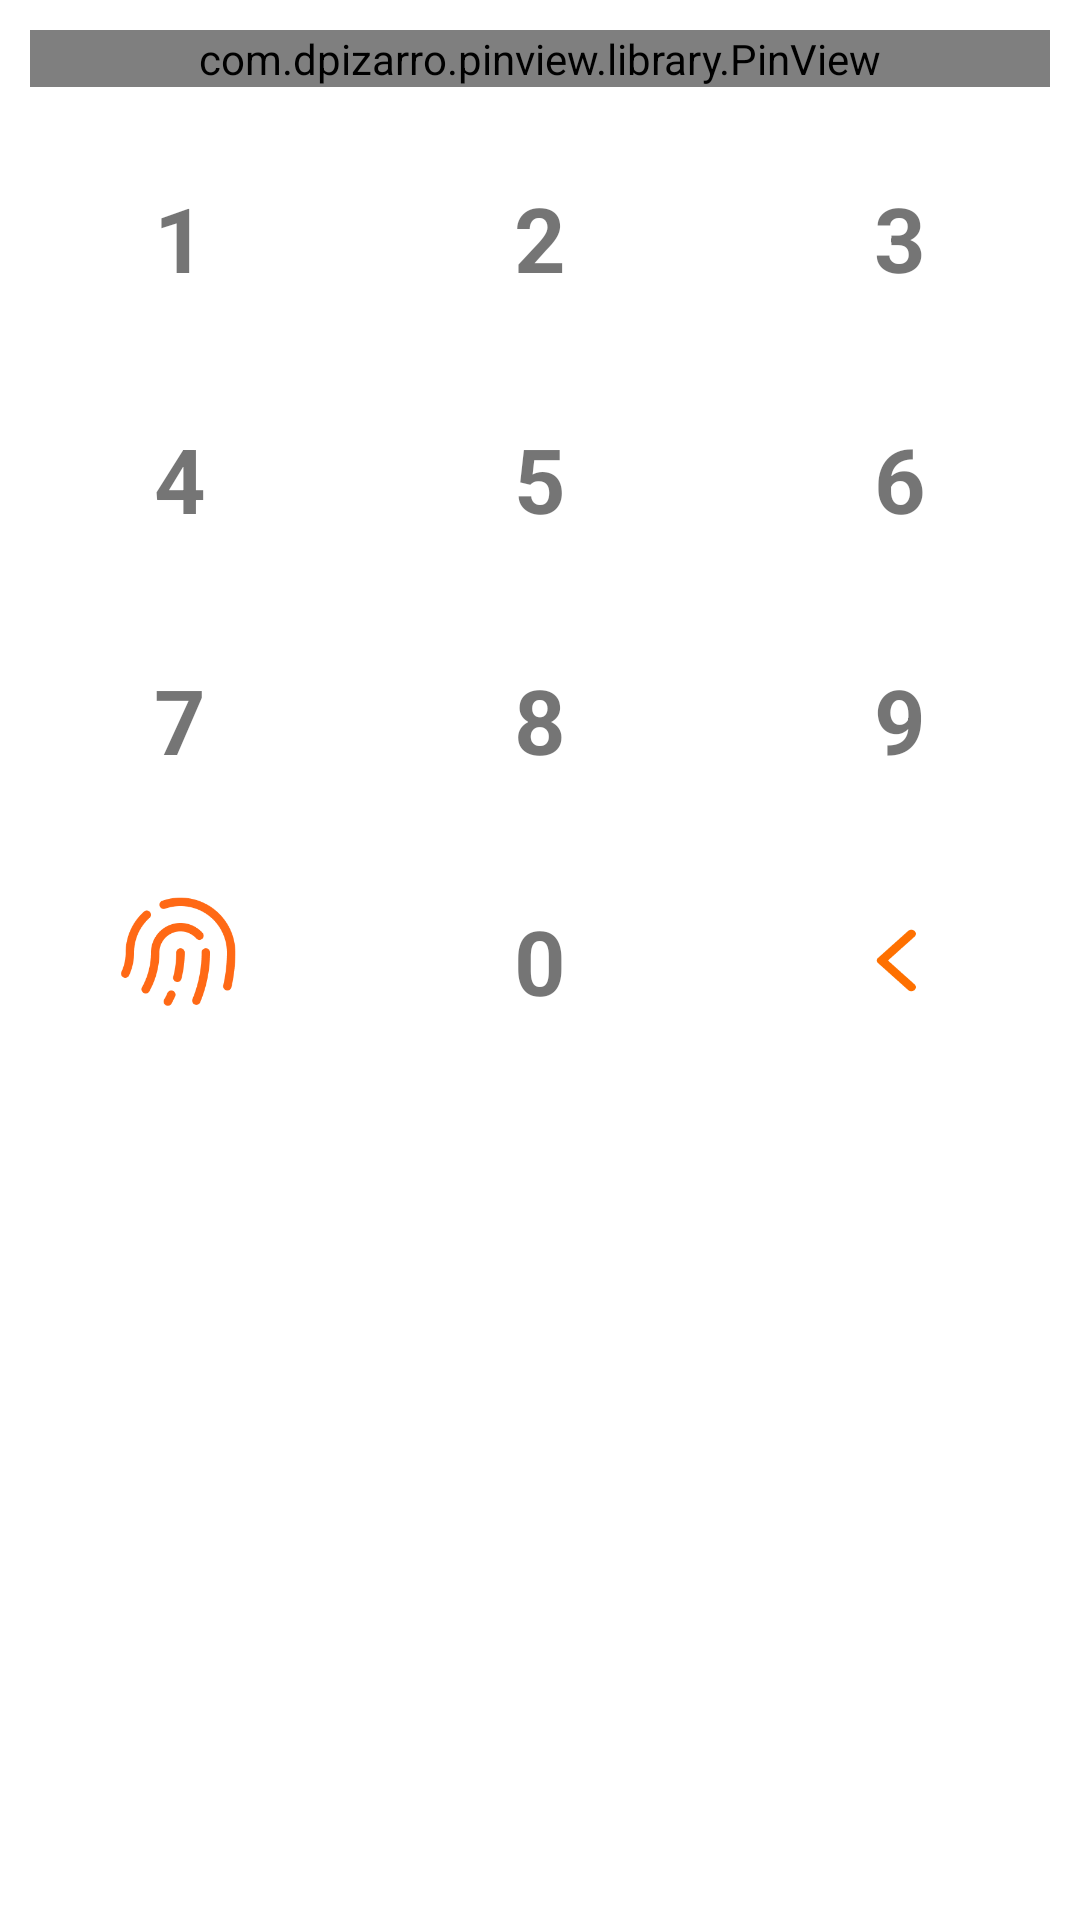

Named icons in this screenshot (1080px x 1920px) and their bounding boxes, (x1, y1, x2, y2):
arrow back: (876, 929, 916, 992)
fingerprint simple: (121, 897, 236, 1006)
